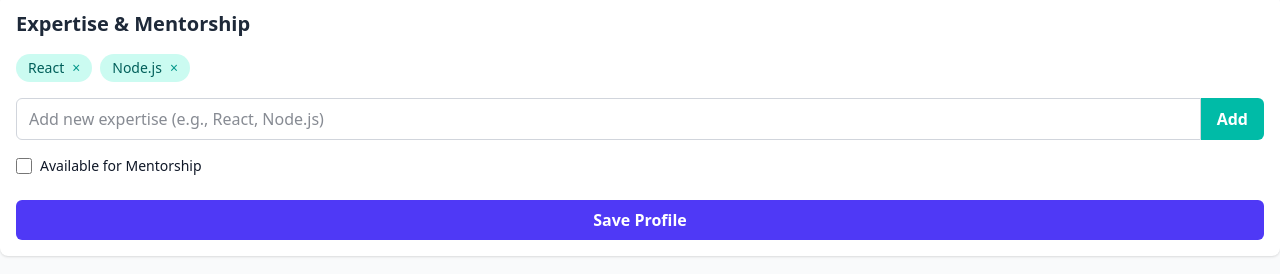
Test: ExpertiseForm › allows adding new expertise
Type "TypeScript" into the field with placeholder "Add new expertise (e.g., React, Node.js)". click: (608, 119)
box: x1=16 y1=98 x2=1201 y2=140
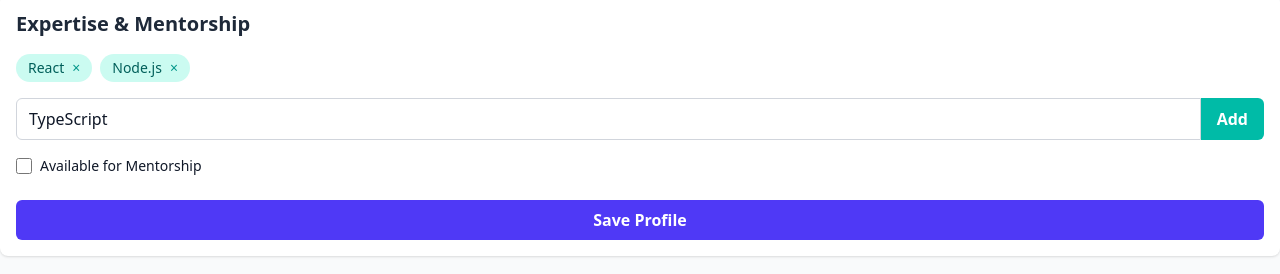
Click the button "Add". click: (1232, 119)
box: x1=1201 y1=98 x2=1264 y2=140
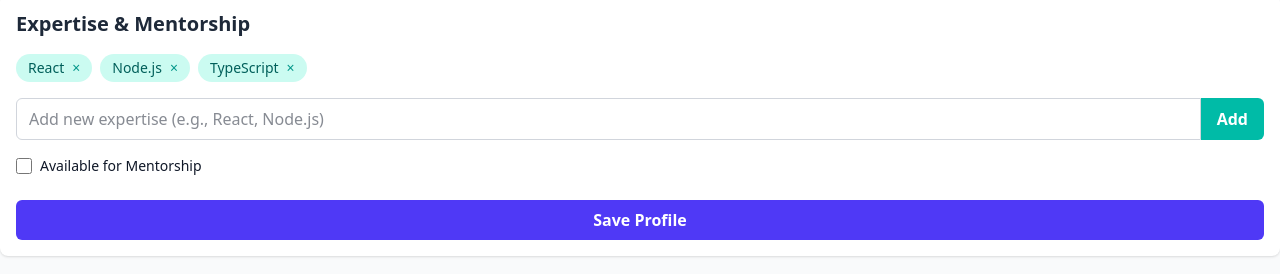
Expected: the text "TypeScript" is shown, x1=210 y1=58 x2=279 y2=77
Expected: the field with placeholder "Add new expertise (e.g., React, Node.js)" is empty, x1=16 y1=98 x2=1201 y2=140
